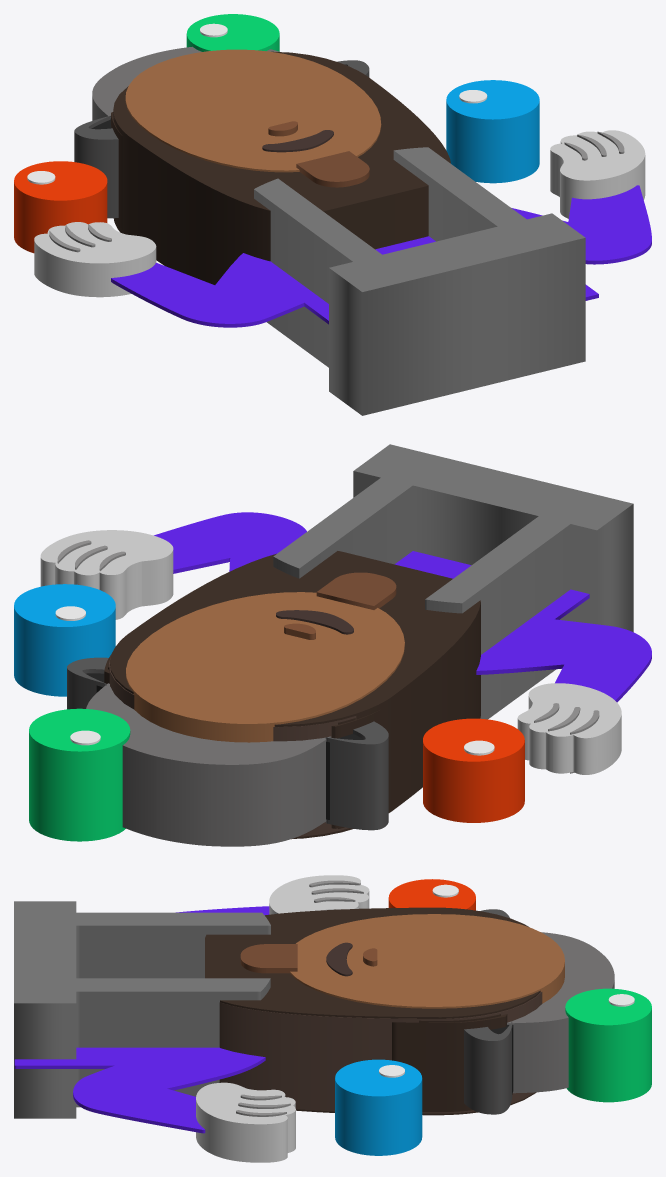
The model's file is emoji_u1f939_1f3fe_200d_2640.glb.
3 renders of one model, top to bottom at view 1: azimuth 30°, elevation 25°; view 2: azimuth 150°, elevation 25°; view 3: azimuth 270°, elevation 25°, orthographic. The views are drawn at different scales.
Visible parts, largest first — view 1: emoji_u1f939_1f3fe_200d_2640; view 2: emoji_u1f939_1f3fe_200d_2640; view 3: emoji_u1f939_1f3fe_200d_2640.
Part boxes in pixels (x1,y1,x2,y2): emoji_u1f939_1f3fe_200d_2640: [14, 14, 651, 415]; emoji_u1f939_1f3fe_200d_2640: [14, 444, 651, 846]; emoji_u1f939_1f3fe_200d_2640: [14, 875, 651, 1162].
Bounding box in the file's own units: 0.0309 × 0.0066 × 0.033.
